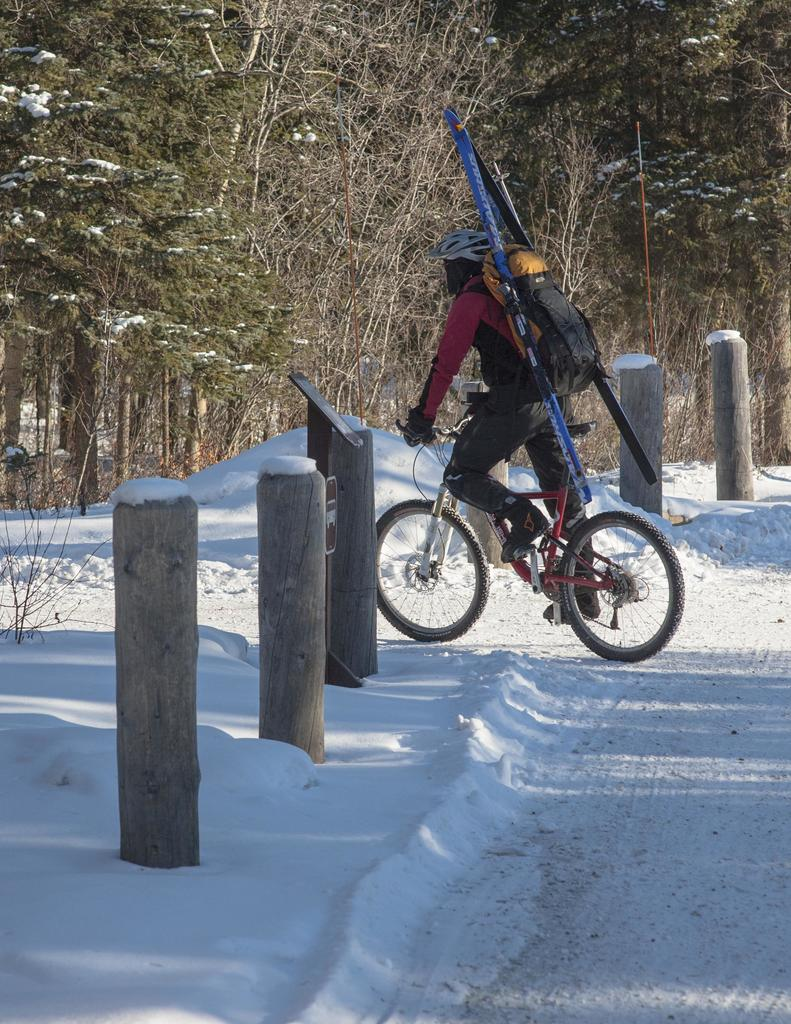bicycle: (345, 312, 704, 676)
